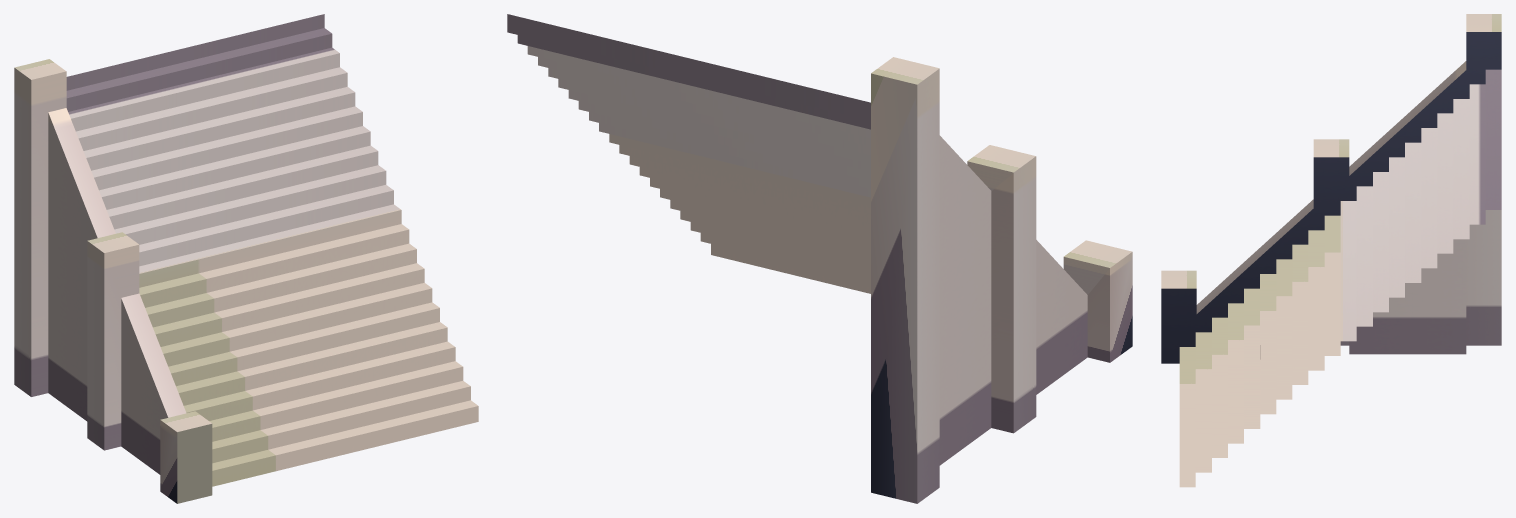
The model's file is leftStair.fbx.
3 renders of one model, left to right at view 1: azimuth 30°, elevation 25°; view 2: azimuth 150°, elevation 25°; view 3: azimuth 270°, elevation 25°, orthographic. The views are drawn at different scales.
Parts seen in each view (by area): view 1: Cube.041; view 2: Cube.041; view 3: Cube.041.
Boxes of the visible parts, x1=… form: Cube.041: x1=14, y1=14, x2=478, y2=503; Cube.041: x1=507, y1=14, x2=1132, y2=503; Cube.041: x1=1161, y1=14, x2=1501, y2=487.
Bounding box in the file's own units: 220 × 215 × 200.
